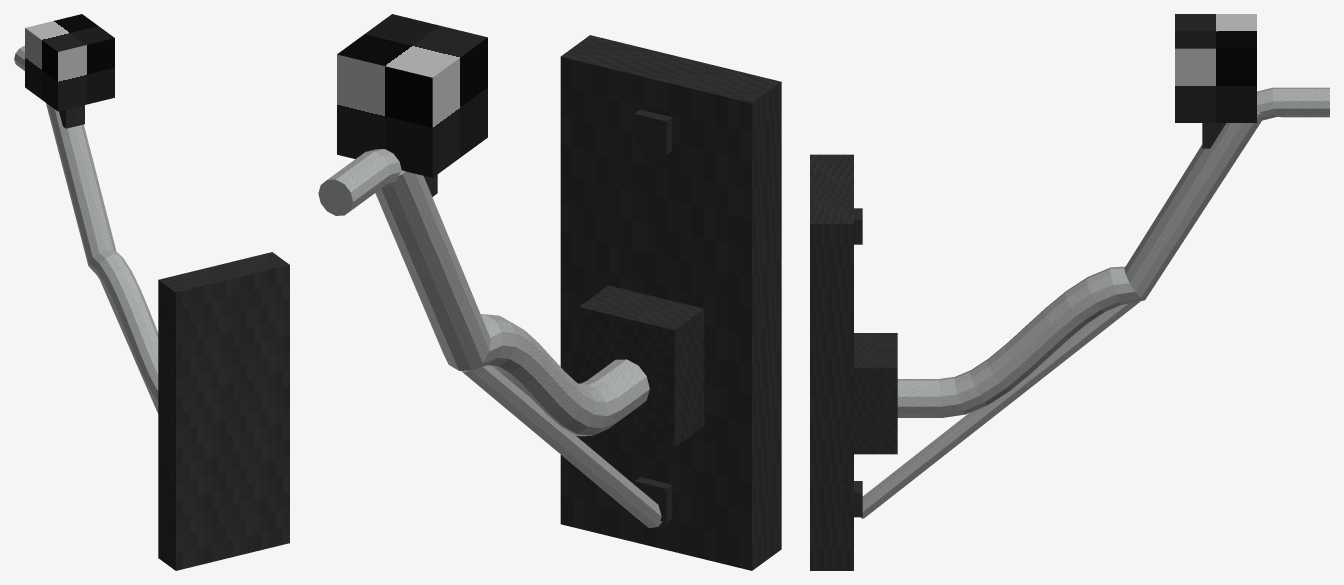
File: arm_1_straight.obj
3 views of the same model, side by side, from view 1: azimuth 30°, elevation 25°; view 2: azimuth 150°, elevation 25°; view 3: azimuth 270°, elevation 25° (orthographic). The views are drawn at different scales.
Parts seen in each view (by area): view 1: pole_light_mount_1_straight; view 2: pole_light_mount_1_straight; view 3: pole_light_mount_1_straight.
Boxes of the visible parts, x1,y1,x2,y2 form: pole_light_mount_1_straight: (14, 14, 289, 570); pole_light_mount_1_straight: (318, 14, 781, 570); pole_light_mount_1_straight: (810, 14, 1329, 570).
Size of the model in its own units: 0.375 by 1.27 by 1.19.
